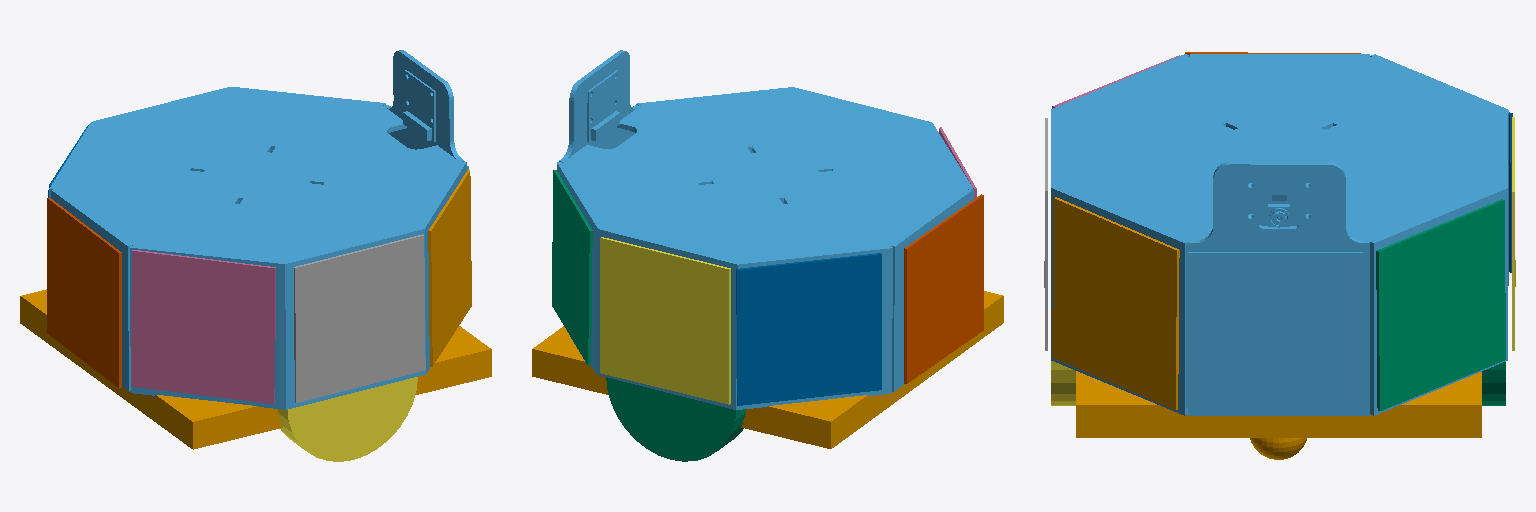
URDF robot description (Brook):
<?xml version="1.0" ?>
<robot name="Brook">

  <joint name="follower_hat_JOINT_3" type="fixed">
    <parent link="follower_hat"/>
    <child link="33"/>
    <origin rpy="0      -0.00144  0.00122" xyz="0.08271 -0.01786 -0.03314"/>
    <axis xyz="0  0  0"/>
    <limit effort="0" lower="0" upper="0" velocity="0"/>
  </joint>
  <joint name="follower_hat_JOINT_4" type="fixed">
    <parent link="follower_hat"/>
    <child link="34"/>
    <origin rpy="0.0067  -0.00416  0.77117" xyz="0.05661  0.04935 -0.03278"/>
    <axis xyz="0  0  0"/>
    <limit effort="0" lower="0" upper="0" velocity="0"/>
  </joint>
  <joint name="follower_hat_JOINT_11" type="fixed">
    <parent link="follower_hat"/>
    <child link="35"/>
    <origin rpy="9.63000000e-03  -1.08000000e-03   1.57121000e+00" xyz="-0.01189  0.07833 -0.0321"/>
    <axis xyz="0  0  0"/>
    <limit effort="0" lower="0" upper="0" velocity="0"/>
  </joint>
  <joint name="follower_hat_JOINT_6" type="fixed">
    <parent link="follower_hat"/>
    <child link="36"/>
    <origin rpy="0.00685 -0.01786  2.35112" xyz="-0.07622  0.05291 -0.03142"/>
    <axis xyz="0  0  0"/>
    <limit effort="0" lower="0" upper="0" velocity="0"/>
  </joint>
  <joint name="follower_hat_JOINT_7" type="fixed">
    <parent link="follower_hat"/>
    <child link="37"/>
    <origin rpy="-0.00019  0.00963 -0.01878" xyz="-0.10862 -0.01902 -0.0313"/>
    <axis xyz="0  0  0"/>
    <limit effort="0" lower="0" upper="0" velocity="0"/>
  </joint>
  <joint name="follower_hat_JOINT_8" type="fixed">
    <parent link="follower_hat"/>
    <child link="38"/>
    <origin rpy="-0.00665 -0.01806 -2.37868" xyz="-0.08011 -0.08263 -0.03049"/>
    <axis xyz="0  0  0"/>
    <limit effort="0" lower="0" upper="0" velocity="0"/>
  </joint>
  <joint name="follower_hat_JOINT_9" type="fixed">
    <parent link="follower_hat"/>
    <child link="39"/>
    <origin rpy="3.50000000e-04  -1.07000000e-03  -1.56877000e+00" xyz="-0.01004 -0.1106  -0.03164"/>
    <axis xyz="0  0  0"/>
    <limit effort="0" lower="0" upper="0" velocity="0"/>
  </joint>
  <joint name="follower_hat_JOINT_10" type="fixed">
    <parent link="follower_hat"/>
    <child link="40"/>
    <origin rpy="-0.00684 -0.0043  -0.78872" xyz="0.05577 -0.0827  -0.03251"/>
    <axis xyz="0  0  0"/>
    <limit effort="0" lower="0" upper="0" velocity="0"/>
  </joint>
 
  <joint name="hat_joint" type="fixed">
    <parent link="chassis"/>
    <child link="follower_hat"/>
    <origin rpy="1.00000000e-05  -9.63000000e-03  -1.22000000e-03" xyz="0.01141  0.01666  0.06974"/>
    <axis xyz="0  0  0"/>
    <limit effort="0" lower="0" upper="0" velocity="0"/>
  </joint>
  <joint name="left_wheel_joint" type="revolute">
    <parent link="chassis"/>
    <child link="left_wheel"/>
    <origin rpy="1.57  0    0" xyz="-0.0015   0.08377  0.035"/>
    <axis xyz="0.00000000e+00   1.00000000e+00   7.90000000e-04"/>
    <limit effort="-1.0" lower="-1.79769e+308" upper="1.79769e+308" velocity="-1.0"/>
  </joint>
  <joint name="right_wheel_joint" type="revolute">
    <parent link="chassis"/>
    <child link="right_wheel"/>
    <origin rpy="1.57  0    3.14" xyz="-0.0015  -0.08377  0.035"/>
    <axis xyz="0.00000000e+00   1.00000000e+00   7.90000000e-04"/>
    <limit effort="-1.0" lower="-1.79769e+308" upper="1.79769e+308" velocity="-1.0"/>
  </joint>

  <link name="chassis">
    <inertial>
      <mass value="0.00251652"/>
      <origin rpy="0  0  0" xyz="0  0  0"/>
      <inertia ixx="6.31e-06" ixy="0" ixz="0" iyy="0.00020976" iyz="0" izz="0.00021598"/>
    </inertial>
    <collision name="collision">
      <origin rpy="0  0  0" xyz="-0.0015  0      0.027"/>
      <geometry>
        <box size="0.164 0.164 0.014559"/>
      </geometry>
    </collision>
    <visual name="visual">
      <origin rpy="0  0  0" xyz="-0.0015  0      0.027"/>
      <geometry>
        <box size="0.164 0.164 0.014559"/>
      </geometry>
    </visual>
		
<collision name='front_caster_collision'>
      <origin rpy="0  0  0" xyz="-0.05199 0 0.012"/>
      <geometry>
        <sphere radius="0.012151"/>
      </geometry>
    </collision>

    <visual name='front_caster_visual'>
      <origin rpy="0  0  0" xyz="-0.05199 0 0.012"/>
      <geometry>
        <sphere radius="0.012151"/>
      </geometry>
    </visual>

	<collision name='back_caster_collision'>
      <origin rpy="0  0  0" xyz="0.05652 0 0.012"/>
      <geometry>
        <sphere radius="0.012151"/>
      </geometry>
    </collision>
    <visual name='back_caster_visual'>
      <origin rpy="0  0  0" xyz="0.05652 0 0.012"/>
      <geometry>
        <sphere radius="0.0121514"/>
      </geometry>
    </visual>																																																												

  </link>

  <link name="33">
    <inertial>
      <mass value="0.00001"/>
      <origin rpy="0  0  0" xyz="0  0  0"/>
      <inertia ixx="0.166667" ixy="0" ixz="0" iyy="0.166667" iyz="0" izz="0.166667"/>
    </inertial>
    <collision name="collision">
      <origin rpy="0  0  0" xyz="0  0  0"/>
      <geometry>
        <mesh filename="package://robot_description/models/brook_id_33/meshes/Brook_ID_33.dae" scale="1.0 1.0 1.0"/>
      </geometry>
    </collision>
    <visual name="visual">
      <origin rpy="0  0  0" xyz="0  0  0"/>
      <geometry>
        <mesh filename="package://robot_description/models/brook_id_33/meshes/Brook_ID_33.dae" scale="0.142 0.142 0.142"/>
      </geometry>
    </visual>
  </link>
  <link name="34">
    <inertial>
      <mass value="0.00001"/>
      <origin rpy="0  0  0" xyz="0  0  0"/>
      <inertia ixx="0.166667" ixy="0" ixz="0" iyy="0.166667" iyz="0" izz="0.166667"/>
    </inertial>
    <collision name="collision">
      <origin rpy="0  0  0" xyz="0  0  0"/>
      <geometry>
        <mesh filename="package://robot_description/models/brook_id_34/meshes/Brook_ID_34.dae" scale="1.0 1.0 1.0"/>
      </geometry>
    </collision>
    <visual name="visual">
      <origin rpy="0  0  0" xyz="0  0  0"/>
      <geometry>
        <mesh filename="package://robot_description/models/brook_id_34/meshes/Brook_ID_34.dae" scale="0.142 0.142 0.142"/>
      </geometry>
    </visual>
  </link>
  <link name="35">
    <inertial>
      <mass value="0.00001"/>
      <origin rpy="0  0  0" xyz="0  0  0"/>
      <inertia ixx="0.166667" ixy="0" ixz="0" iyy="0.166667" iyz="0" izz="0.166667"/>
    </inertial>
    <collision name="collision">
      <origin rpy="0  0  0" xyz="0  0  0"/>
      <geometry>
        <mesh filename="package://robot_description/models/brook_id_35/meshes/Brook_ID_35.dae" scale="1.0 1.0 1.0"/>
      </geometry>
    </collision>
    <visual name="visual">
      <origin rpy="0  0  0" xyz="0  0  0"/>
      <geometry>
        <mesh filename="package://robot_description/models/brook_id_35/meshes/Brook_ID_35.dae" scale="0.142 0.142 0.142"/>
      </geometry>
    </visual>
  </link>
  <link name="36">
    <inertial>
      <mass value="0.00001"/>
      <origin rpy="0  0  0" xyz="0  0  0"/>
      <inertia ixx="0.166667" ixy="0" ixz="0" iyy="0.166667" iyz="0" izz="0.166667"/>
    </inertial>
    <collision name="collision">
      <origin rpy="0  0  0" xyz="0  0  0"/>
      <geometry>
        <mesh filename="package://robot_description/models/brook_id_36/meshes/Brook_ID_36.dae" scale="1.0 1.0 1.0"/>
      </geometry>
    </collision>
    <visual name="visual">
      <origin rpy="0  0  0" xyz="0  0  0"/>
      <geometry>
        <mesh filename="package://robot_description/models/brook_id_36/meshes/Brook_ID_36.dae" scale="0.142 0.142 0.142"/>
      </geometry>
    </visual>
  </link>
  <link name="37">
    <inertial>
      <mass value="0.00001"/>
      <origin rpy="0  0  0" xyz="0  0  0"/>
      <inertia ixx="0.166667" ixy="0" ixz="0" iyy="0.166667" iyz="0" izz="0.166667"/>
    </inertial>
    <collision name="collision">
      <origin rpy="0  0  0" xyz="0  0  0"/>
      <geometry>
        <mesh filename="package://robot_description/models/brook_id_37/meshes/Brook_ID_37.dae" scale="1.0 1.0 1.0"/>
      </geometry>
    </collision>
    <visual name="visual">
      <origin rpy="0  0  0" xyz="0  0  0"/>
      <geometry>
        <mesh filename="package://robot_description/models/brook_id_37/meshes/Brook_ID_37.dae" scale="0.142 0.142 0.142"/>
      </geometry>
    </visual>
  </link>
  <link name="38">
    <inertial>
      <mass value="0.00001"/>
      <origin rpy="0  0  0" xyz="0  0  0"/>
      <inertia ixx="0.166667" ixy="0" ixz="0" iyy="0.166667" iyz="0" izz="0.166667"/>
    </inertial>
    <collision name="collision">
      <origin rpy="0  0  0" xyz="0  0  0"/>
      <geometry>
        <mesh filename="package://robot_description/models/brook_id_38/meshes/Brook_ID_38.dae" scale="1.0 1.0 1.0"/>
      </geometry>
    </collision>
    <visual name="visual">
      <origin rpy="0  0  0" xyz="0  0  0"/>
      <geometry>
        <mesh filename="package://robot_description/models/brook_id_38/meshes/Brook_ID_38.dae" scale="0.142 0.142 0.142"/>
      </geometry>
    </visual>
  </link>
  <link name="39">
    <inertial>
      <mass value="0.00001"/>
      <origin rpy="0  0  0" xyz="0  0  0"/>
      <inertia ixx="0.166667" ixy="0" ixz="0" iyy="0.166667" iyz="0" izz="0.166667"/>
    </inertial>
    <collision name="collision">
      <origin rpy="0  0  0" xyz="0  0  0"/>
      <geometry>
        <mesh filename="package://robot_description/models/brook_id_39/meshes/Brook_ID_39.dae" scale="1.0 1.0 1.0"/>
      </geometry>
    </collision>
    <visual name="visual">
      <origin rpy="0  0  0" xyz="0  0  0"/>
      <geometry>
        <mesh filename="package://robot_description/models/brook_id_39/meshes/Brook_ID_39.dae" scale="0.142 0.142 0.142"/>
      </geometry>
    </visual>
  </link>
  <link name="40">
    <inertial>
      <mass value="0.00001"/>
      <origin rpy="0  0  0" xyz="0  0  0"/>
      <inertia ixx="0.166667" ixy="0" ixz="0" iyy="0.166667" iyz="0" izz="0.166667"/>
    </inertial>
    <collision name="collision">
      <origin rpy="0  0  0" xyz="0  0  0"/>
      <geometry>
        <mesh filename="package://robot_description/models/brook_id_40/meshes/Brook_ID_40.dae" scale="1.0 1.0 1.0"/>
      </geometry>
    </collision>
    <visual name="visual">
      <origin rpy="0  0  0" xyz="0  0  0"/>
      <geometry>
        <mesh filename="package://robot_description/models/brook_id_40/meshes/Brook_ID_40.dae" scale="0.142 0.142 0.142"/>
      </geometry>
    </visual>
  </link>
  
  <link name="follower_hat">
    <inertial>
      <mass value="0.00151652"/>
      <origin rpy="0  0  0" xyz="0  0  0"/>
      <inertia ixx="0.166667" ixy="0" ixz="0" iyy="0.166667" iyz="0" izz="0.166667"/>
    </inertial>
    <collision name="collision">
      <origin rpy="0  0  0" xyz="0  0  0"/>
      <geometry>
        <mesh filename="package://robot_description/meshes/follower-tagboard_.stl" scale="1.0 1.0 1.0"/>
      </geometry>
    </collision>
    <visual name="visual">
      <origin rpy="0  0  0" xyz="0  0  0"/>
      <geometry>
        <mesh filename="package://robot_description/meshes/follower-tagboard.stl" scale="1.0 1.0 1.0"/>
      </geometry>
    </visual>
  </link>
  
  <link name="left_wheel">
    <inertial>
      <mass value="8.439e-05"/>
      <origin rpy="0  0  0" xyz="0  0  0"/>
      <inertia ixx="3e-08" ixy="0" ixz="0" iyy="3e-08" iyz="0" izz="5e-08"/>
    </inertial>
    <collision name="collision">
      <origin rpy="0  0  0" xyz="0  0  0"/>
      <geometry>
        <cylinder length="0.016404" radius="0.035867"/>
      </geometry>
    </collision>
    <visual name="visual">
      <origin rpy="0  0  0" xyz="0  0  0"/>
      <geometry>
        <cylinder length="0.0164037" radius="0.0358674"/>
      </geometry>
    </visual>
  </link>
  <link name="right_wheel">
    <inertial>
      <mass value="8.439e-05"/>
      <origin rpy="0  0  0" xyz="0  0  0"/>
      <inertia ixx="3e-08" ixy="0" ixz="0" iyy="3e-08" iyz="0" izz="5e-08"/>
    </inertial>
    <collision name="collision">
      <origin rpy="0  0  0" xyz="0  0  0"/>
      <geometry>
        <cylinder length="0.016404" radius="0.035867"/>
      </geometry>
    </collision>
    <visual name="visual">
      <origin rpy="0  0  0" xyz="0  0  0"/>
      <geometry>
        <cylinder length="0.0164037" radius="0.0358674"/>
      </geometry>
    </visual>
  </link>
</robot>

--- Facts derived from the render (not from the file) ---
Views: 3 orthographic renders of the robot side by side, from view 1: azimuth 30°, elevation 25°; view 2: azimuth 150°, elevation 25°; view 3: azimuth 270°, elevation 25°.
Model Brook with 12 links and 11 joints (2 revolute, 9 fixed), rooted at chassis, posed all joints at 0.
Visible links, largest first — view 1: follower_hat, 38, 39, 37, chassis, right_wheel, 40; view 2: follower_hat, 36, 35, 37, chassis, left_wheel, 34; view 3: follower_hat, 33, 34, 40, chassis, right_wheel, left_wheel, 35, 39.
Link boxes in pixels (bbox=[...]): follower_hat: bbox=[49, 50, 466, 409]; 38: bbox=[131, 250, 275, 403]; 39: bbox=[294, 234, 425, 402]; 37: bbox=[47, 198, 121, 388]; chassis: bbox=[20, 289, 491, 449]; right_wheel: bbox=[278, 377, 417, 461]; 40: bbox=[428, 170, 471, 366]; follower_hat: bbox=[557, 50, 973, 409]; 36: bbox=[736, 253, 881, 405]; 35: bbox=[600, 237, 730, 404]; 37: bbox=[904, 194, 983, 383]; chassis: bbox=[532, 291, 1003, 448]; left_wheel: bbox=[606, 377, 745, 461]; 34: bbox=[552, 170, 592, 365]; follower_hat: bbox=[1051, 54, 1508, 415]; 33: bbox=[1188, 252, 1362, 412]; 34: bbox=[1376, 199, 1505, 410]; 40: bbox=[1052, 197, 1179, 409]; chassis: bbox=[1076, 371, 1481, 459]; right_wheel: bbox=[1051, 361, 1075, 405]; left_wheel: bbox=[1482, 362, 1505, 405]; 35: bbox=[1512, 117, 1515, 350]; 39: bbox=[1044, 118, 1047, 350].
Bounding box of the posed robot: 0.1935 × 0.1904 × 0.1478 m (x, y, z).
Meshes: 9 distinct files referenced, 9 mesh visuals loaded (1 binary STL, 8 Collada DAE).
